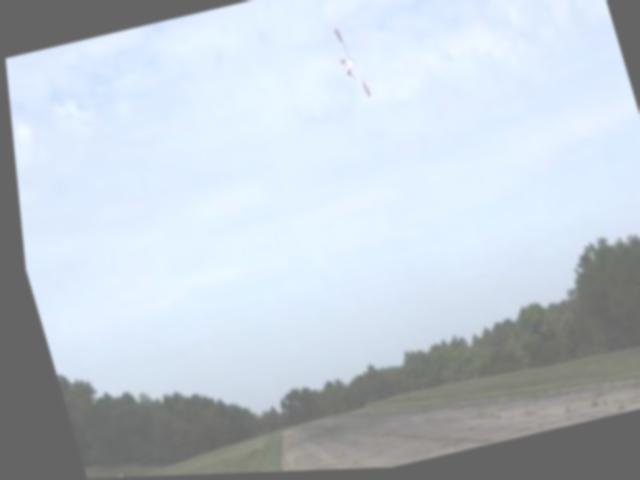uav: (321, 18, 375, 111)
